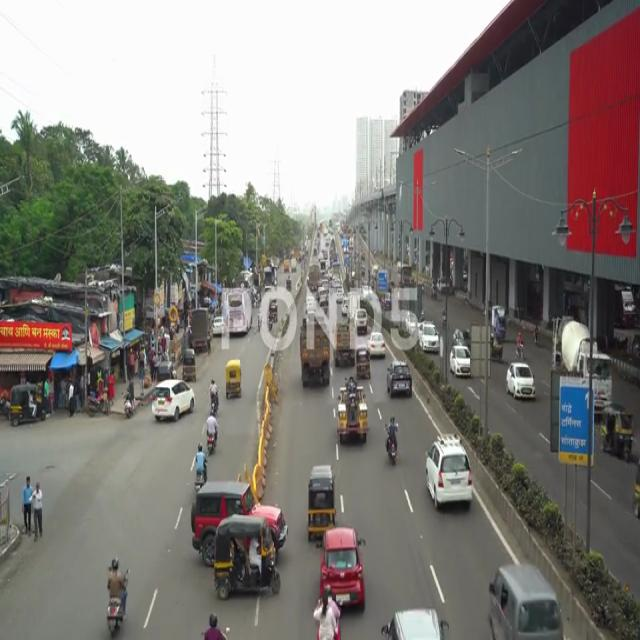car: (485, 559, 562, 640), (424, 437, 472, 516), (321, 528, 366, 610), (152, 381, 195, 426), (506, 360, 537, 402), (388, 358, 413, 402)
motorbike: (105, 550, 129, 637), (384, 411, 401, 470), (206, 376, 222, 416), (193, 444, 206, 488)
rikshaw: (217, 520, 281, 600), (308, 458, 332, 540), (602, 406, 634, 464)
truck: (335, 381, 371, 451)
